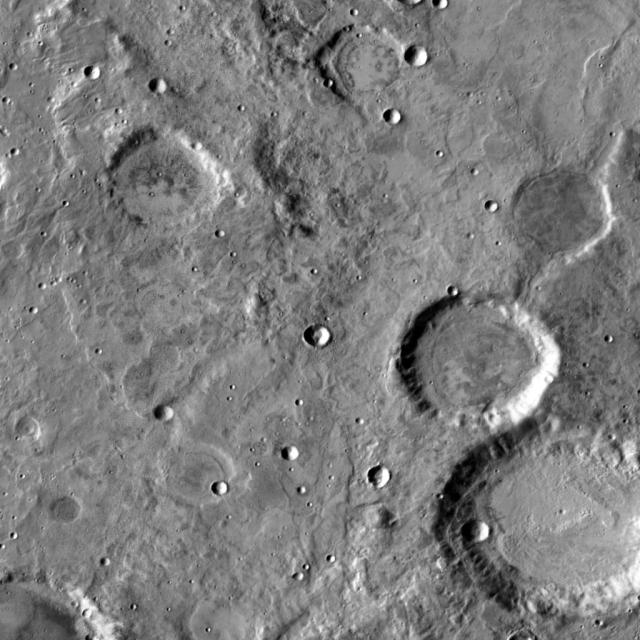crater: (447, 418, 640, 625), (404, 295, 564, 435), (115, 132, 227, 231), (518, 171, 623, 263), (323, 28, 412, 106), (165, 446, 240, 512), (184, 590, 271, 640), (153, 344, 189, 376), (56, 499, 88, 527), (468, 522, 496, 547), (22, 421, 49, 445), (312, 328, 338, 350), (374, 469, 398, 490), (411, 48, 435, 69), (9, 244, 30, 264), (161, 407, 180, 425), (155, 81, 174, 97), (391, 111, 408, 127), (90, 68, 107, 83), (288, 450, 306, 464), (218, 485, 236, 499), (491, 203, 505, 216), (439, 0, 454, 12), (451, 289, 463, 300), (612, 336, 621, 346), (222, 232, 232, 240), (199, 144, 209, 152), (334, 558, 344, 566), (300, 576, 310, 584), (107, 562, 117, 570), (16, 65, 25, 73), (305, 490, 314, 498), (330, 82, 339, 90), (362, 421, 372, 428), (358, 12, 366, 20), (90, 613, 98, 621), (16, 536, 24, 544), (6, 130, 14, 138), (18, 151, 26, 158), (474, 236, 482, 243), (302, 402, 310, 409), (244, 107, 252, 114), (10, 101, 17, 108), (442, 153, 449, 160), (30, 302, 38, 308), (163, 36, 170, 42), (46, 92, 53, 98)
